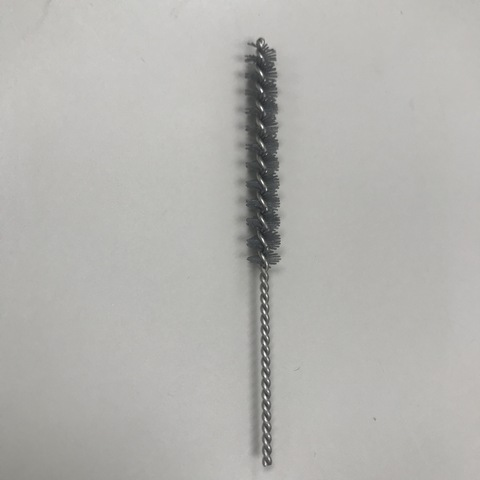Twist Brush-A: (242, 33, 292, 472)
